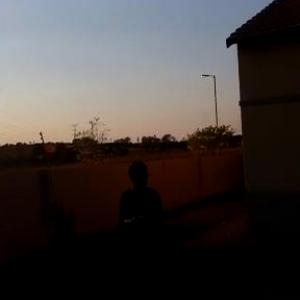follow: (119, 157, 173, 299)
